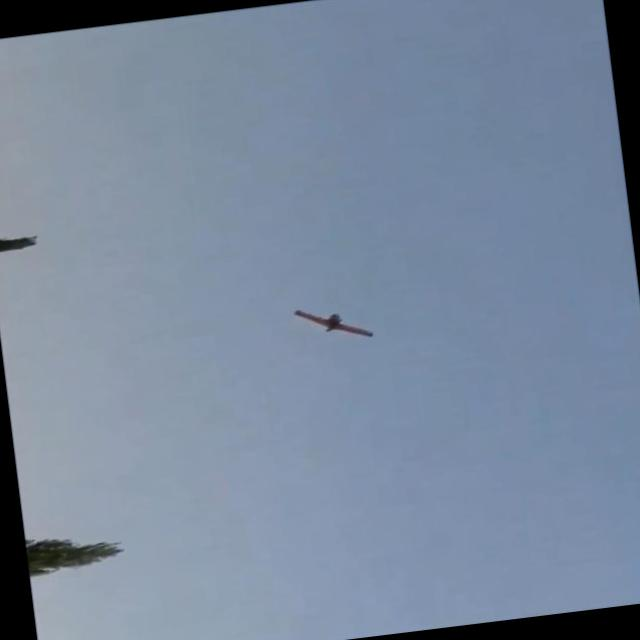UAV: (261, 302, 377, 374)
